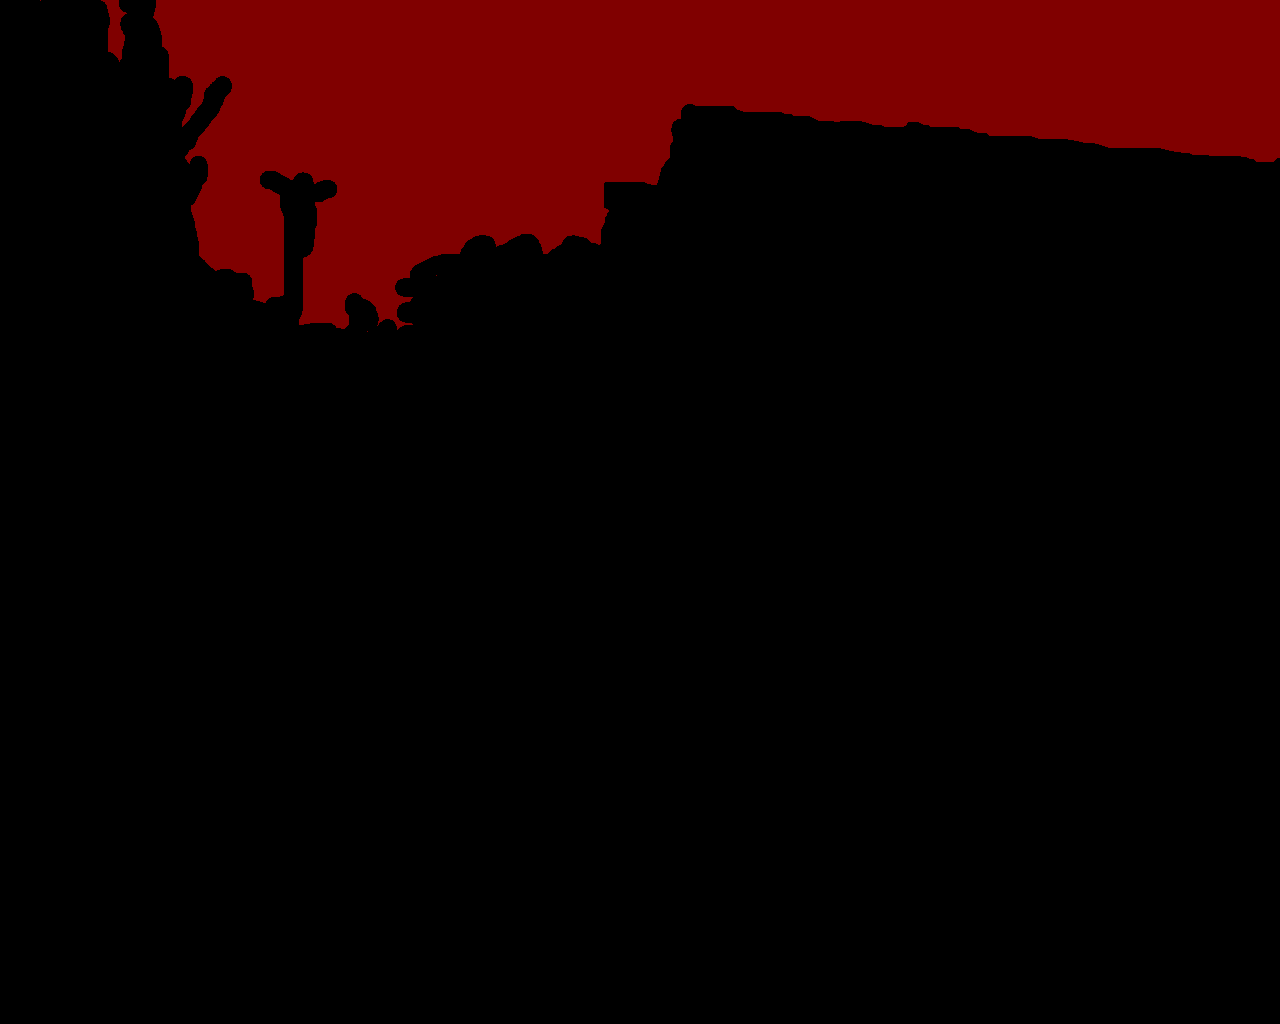Sky: (41, 1, 1279, 332)
